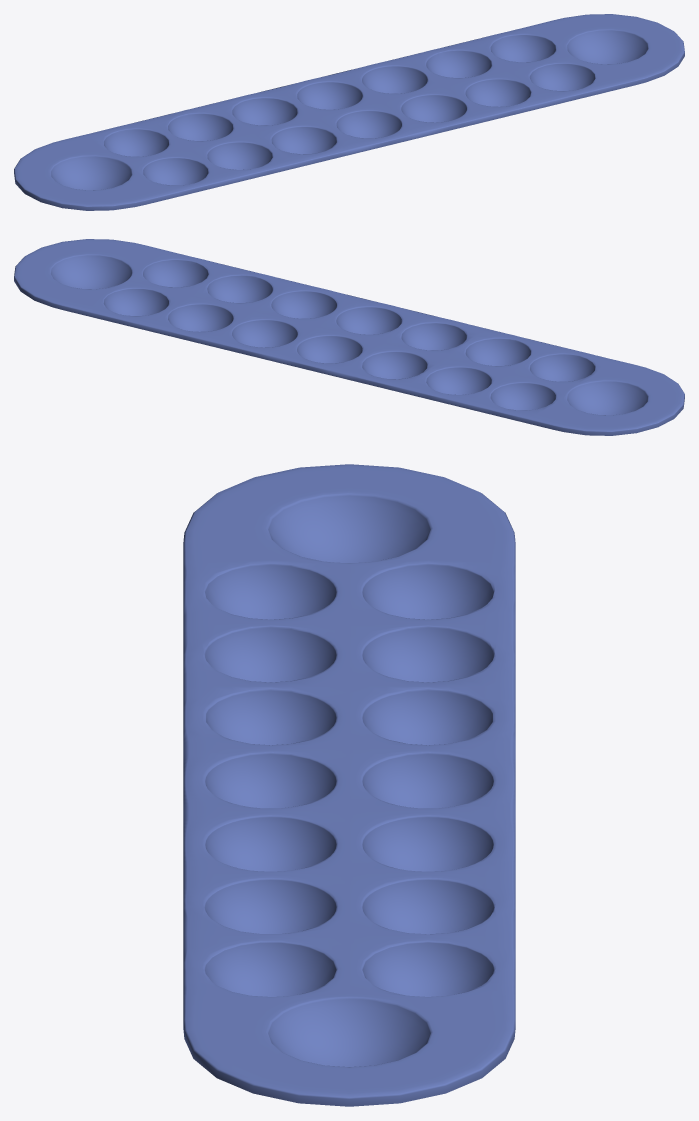
Rendered from Collider_tempat_congklak.fbx.
3 renders of one model, top to bottom at view 1: azimuth 30°, elevation 25°; view 2: azimuth 150°, elevation 25°; view 3: azimuth 270°, elevation 25°, orthographic. The views are drawn at different scales.
Parts seen in each view (by area): view 1: Collider_tempat_congklak; view 2: Collider_tempat_congklak; view 3: Collider_tempat_congklak.
Boxes of the visible parts, left/top/right/bottom form: Collider_tempat_congklak: left=14, top=14, right=684, bottom=210; Collider_tempat_congklak: left=14, top=239, right=684, bottom=435; Collider_tempat_congklak: left=183, top=464, right=515, bottom=1106.
Size of the model in its own units: 19.45 by 0.6108 by 4.31.
